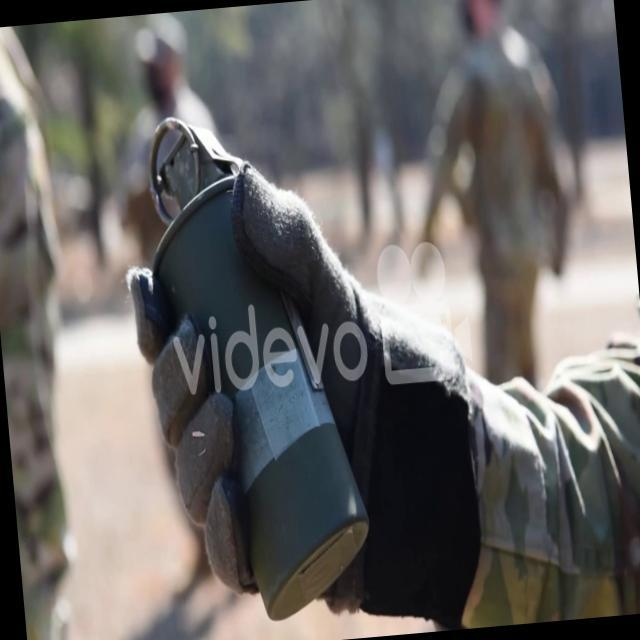grenade: (126, 103, 374, 621)
